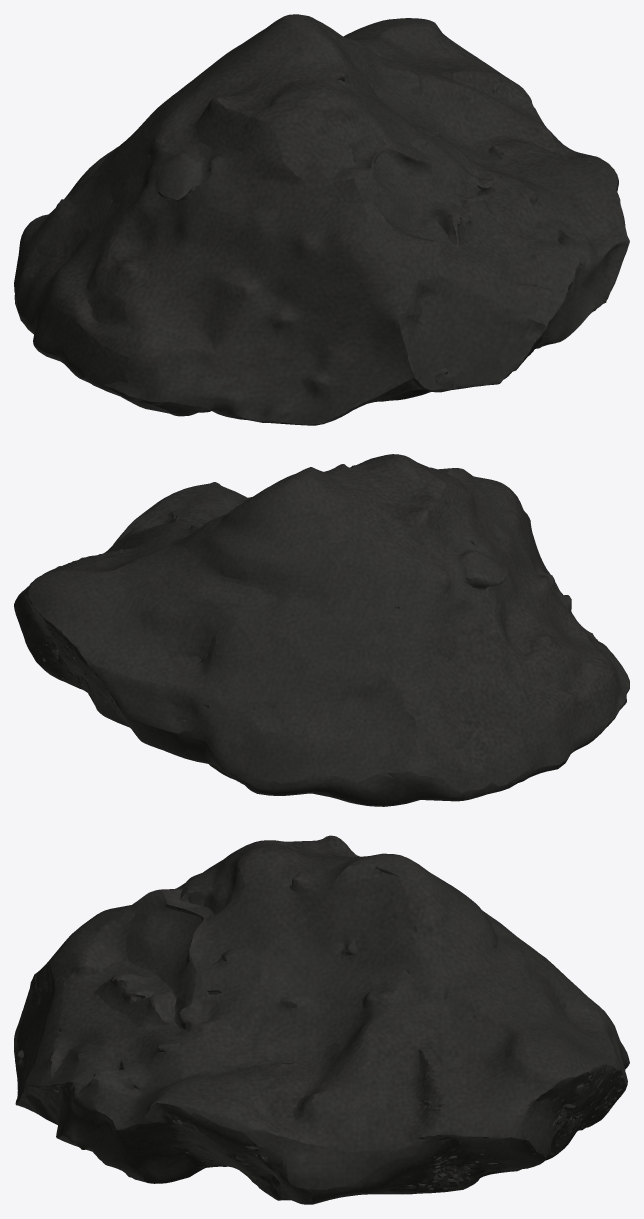
The picture shows the model from 3 angles, top to bottom: view 1: azimuth 30°, elevation 25°; view 2: azimuth 150°, elevation 25°; view 3: azimuth 270°, elevation 25°; orthographic projection. The views are drawn at different scales.
Visible parts, largest first — view 1: world; view 2: world; view 3: world.
Part boxes in pixels (box(x1,y1,x2,y2)): world: box(14, 14, 629, 425); world: box(14, 454, 629, 806); world: box(14, 835, 629, 1204).
Bounding box in the file's own units: 2.5 × 1.19 × 2.48.
Materials: 1 (1 with a texture image).
